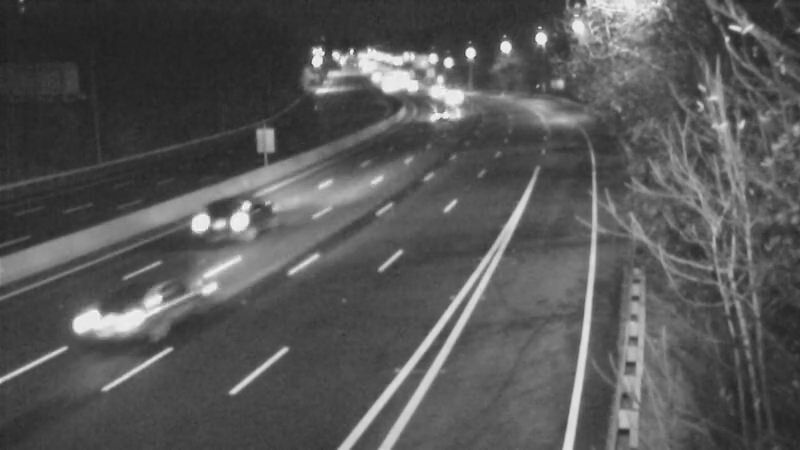vehicle: (58, 267, 168, 377), (172, 181, 252, 261), (404, 62, 454, 112), (432, 72, 482, 122), (418, 85, 468, 135)
